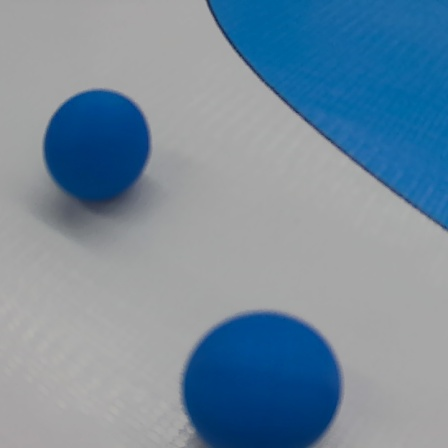blue: (176, 310, 352, 445), (42, 88, 152, 212)
blue_base: (204, 2, 448, 232)
